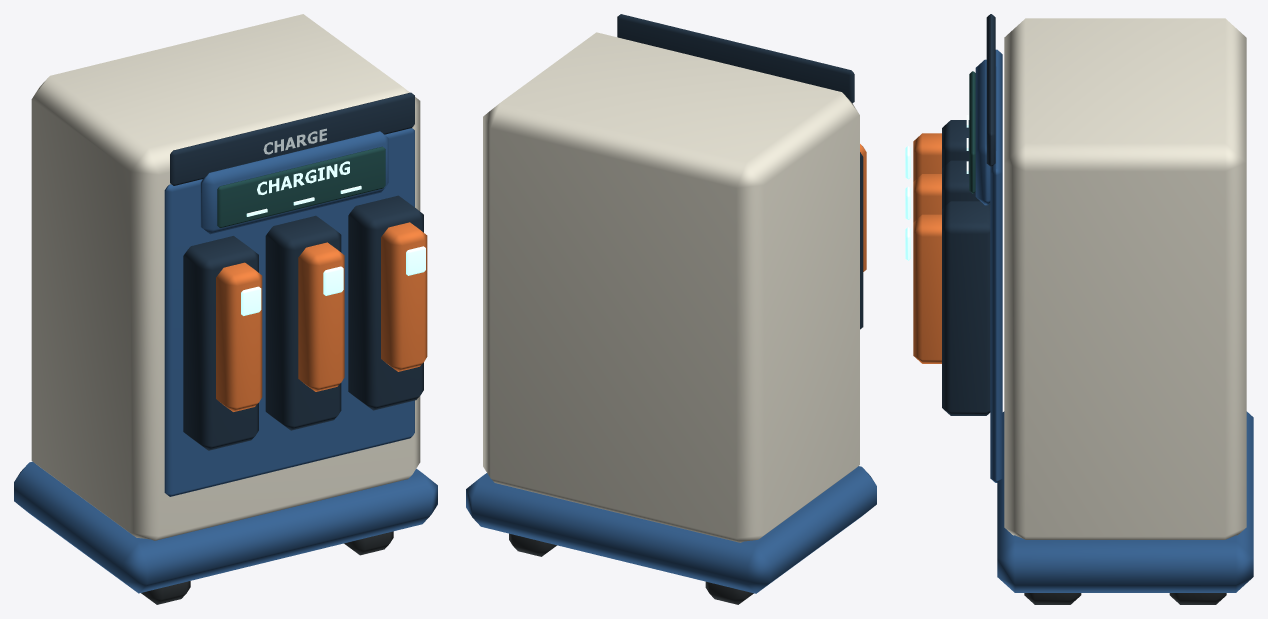
Rendered from Battery_Charger.glb.
3 renders of one model, left to right at view 1: azimuth 30°, elevation 25°; view 2: azimuth 150°, elevation 25°; view 3: azimuth 270°, elevation 25°, orthographic. The views are drawn at different scales.
Parts seen in each view (by area): view 1: Battery_Charger; view 2: Battery_Charger; view 3: Battery_Charger.
Part boxes in pixels (x1=…): Battery_Charger: x1=14, y1=14, x2=437, y2=604; Battery_Charger: x1=466, y1=14, x2=876, y2=604; Battery_Charger: x1=905, y1=14, x2=1253, y2=604.
Size of the model in its own units: 1.03 by 1.47 by 0.978.
